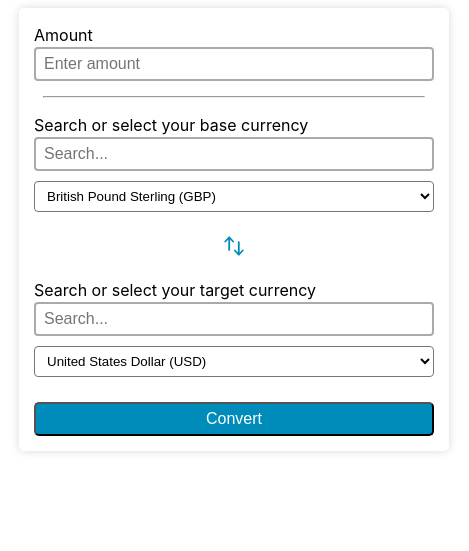
Test: CurrencyConverter › handles API request errors
The width and height of the screenshot is (469, 551).
Type "100" into the field labelled "Amount" at (234, 64), box [34,47,434,81]
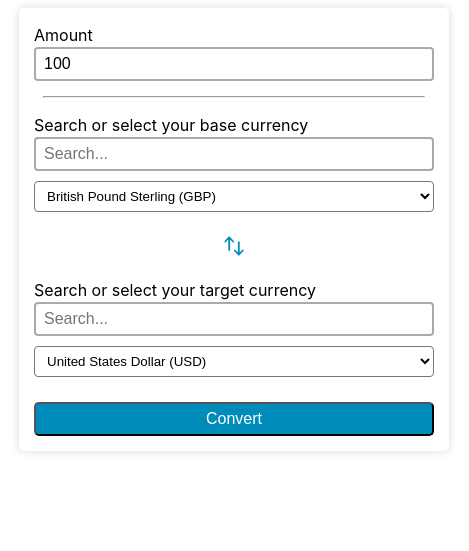
Select "British Pound Sterling (GBP)" in the dropdown with test id "base-currency" at (234, 196), box [34,181,434,212]
Select "United States Dollar (USD)" in the dropdown with test id "target-currency" at (234, 362), box [34,346,434,377]
Click the button "Convert" at (234, 419), box [34,402,434,436]
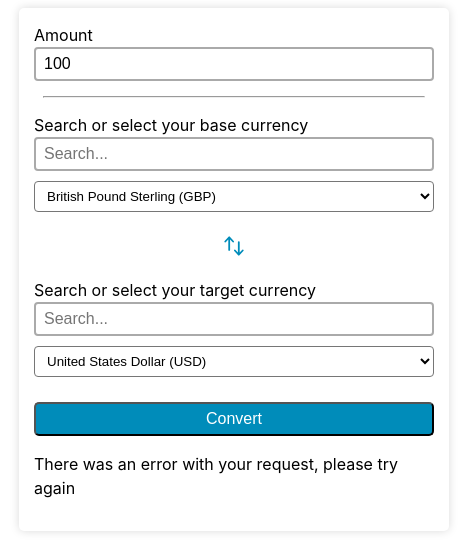
Now the text "There was an error with your request, please try again" is shown, box [34,452,434,500]
